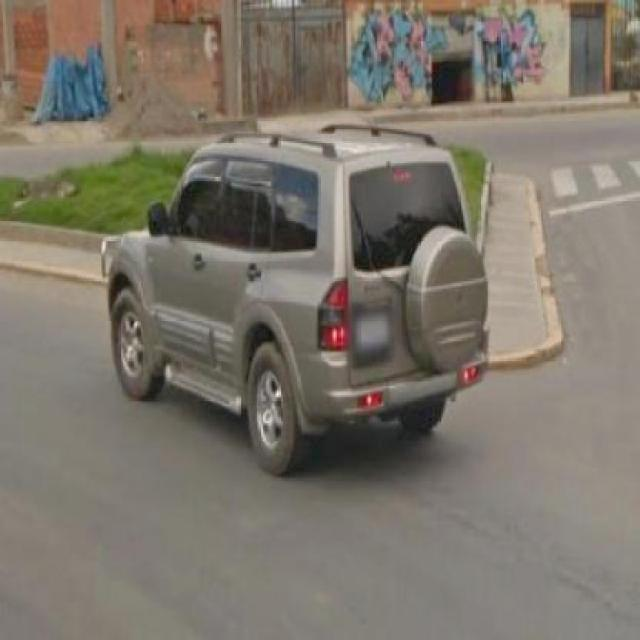car: (94, 106, 497, 452)
